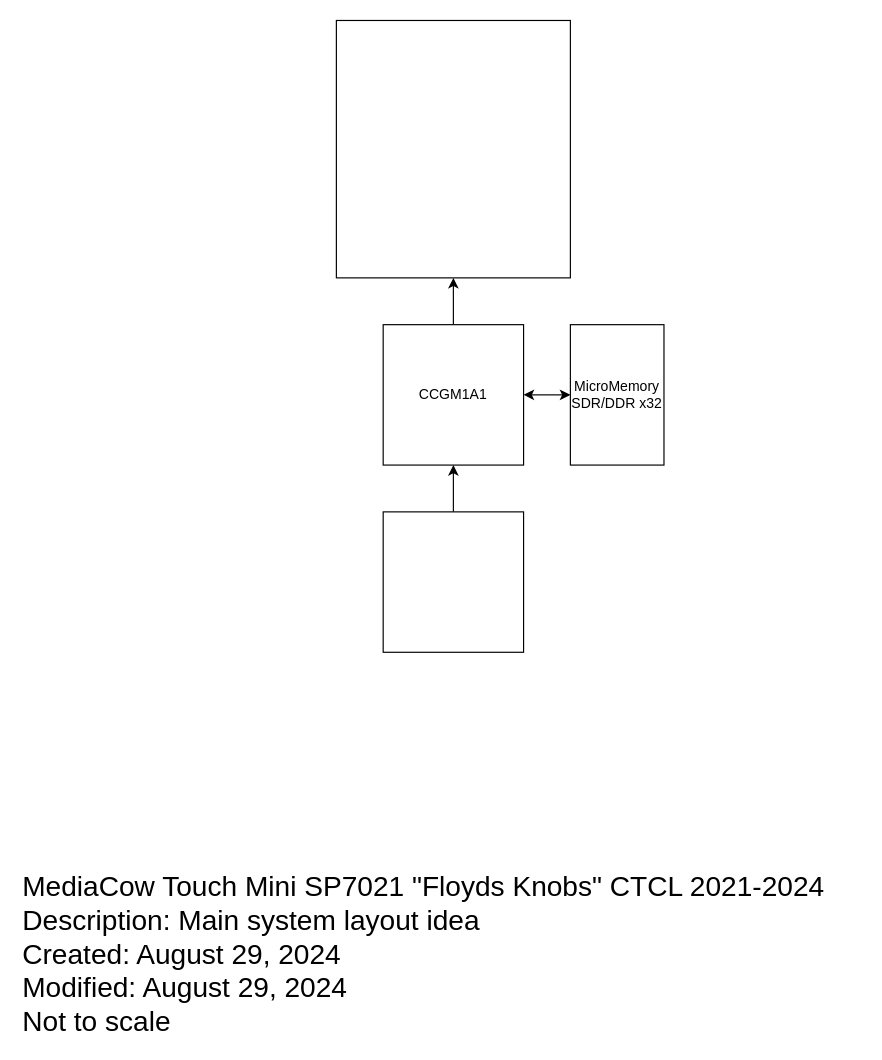
This 882x1060 diagram has some shape labels left out. Here are the shapes that lost their labels. From the top down, the centre of each, then its label:
the point at 452,148: 800x480 Touchscreen
the point at 453,581: SP7021
